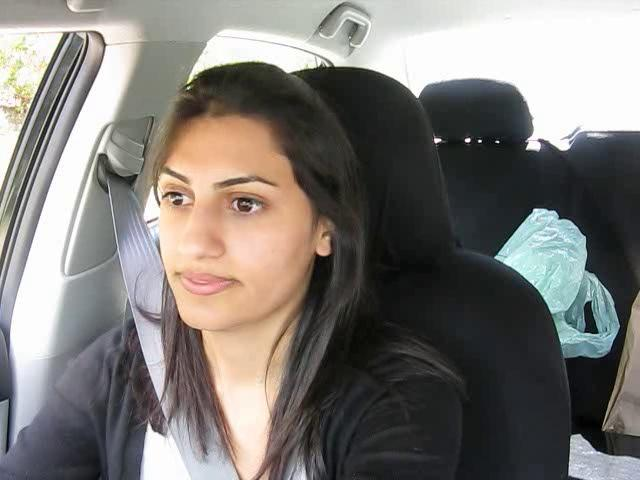no_yawn: (163, 260, 250, 303)
open_eyeL: (154, 181, 202, 216)
open_eyeR: (220, 187, 278, 222)
